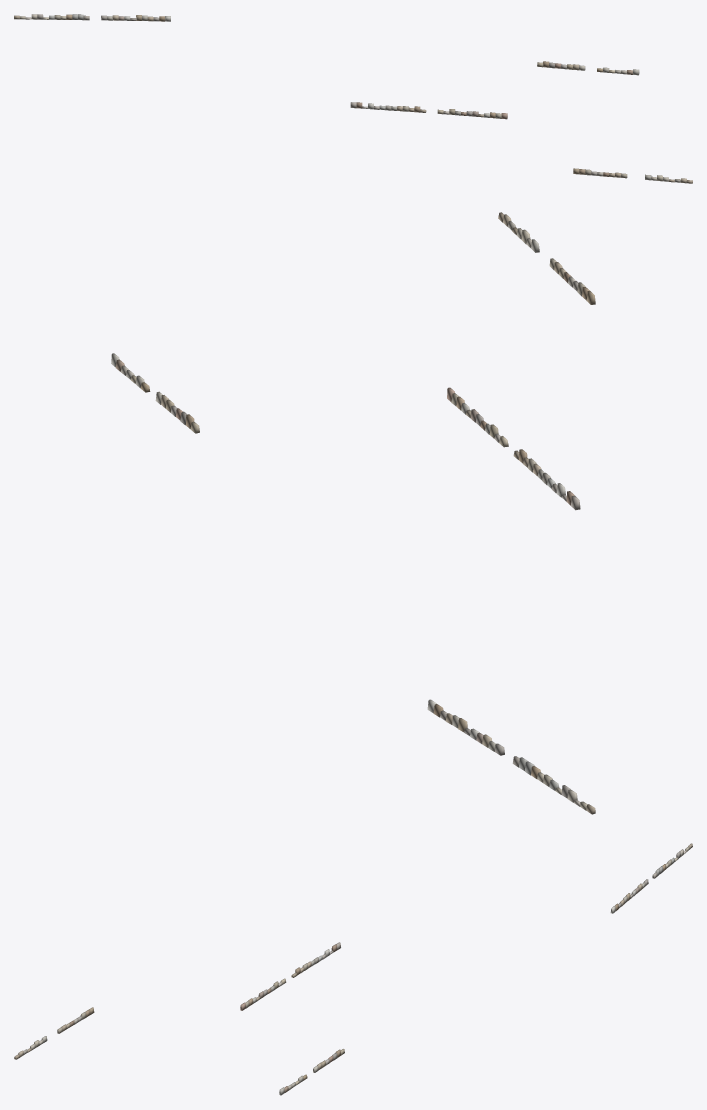
The model's file is farm_11_13_far.glb.
3 views of the same model, one above another, from view 1: azimuth 30°, elevation 25°; view 2: azimuth 150°, elevation 25°; view 3: azimuth 270°, elevation 25° (orthographic). The views are drawn at different scales.
Parts seen in each view (by area): view 1: geometry_0; view 2: geometry_0; view 3: geometry_0.
Boxes of the visible parts, x1,y1,x2,y2 form: geometry_0: [14, 14, 692, 183]; geometry_0: [111, 212, 595, 814]; geometry_0: [14, 843, 692, 1095].
Size of the model in its own units: 133 by 7.56 by 168.
